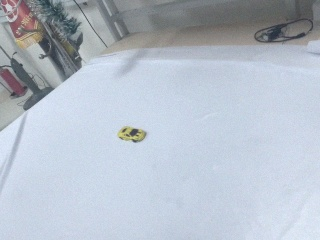toy_car: (117, 126, 147, 143)
